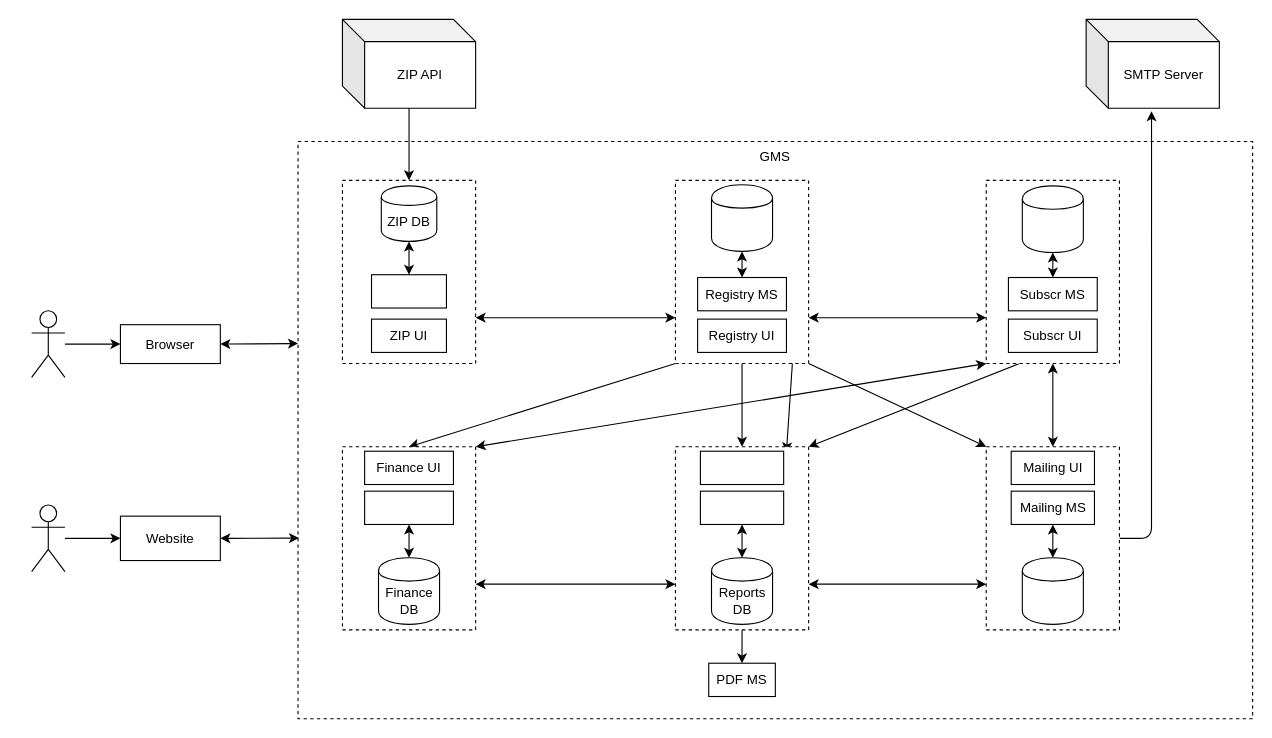
Image size: 1272x738. Some labels were removed from this diagram. Here are the shapes that lost their labels. From the top down, the centre of each, then its label:
At point (741, 217): "Registry DB".
At point (1052, 219): "Subscr DB".
At point (408, 291): "ZIP MS".
At point (48, 343): "User".
At point (741, 467): "Reports UI".
At point (408, 507): "Finance MS".
At point (741, 507): "Reports MS".
At point (48, 538): "Customer".
At point (1052, 590): "Mailing DB".
